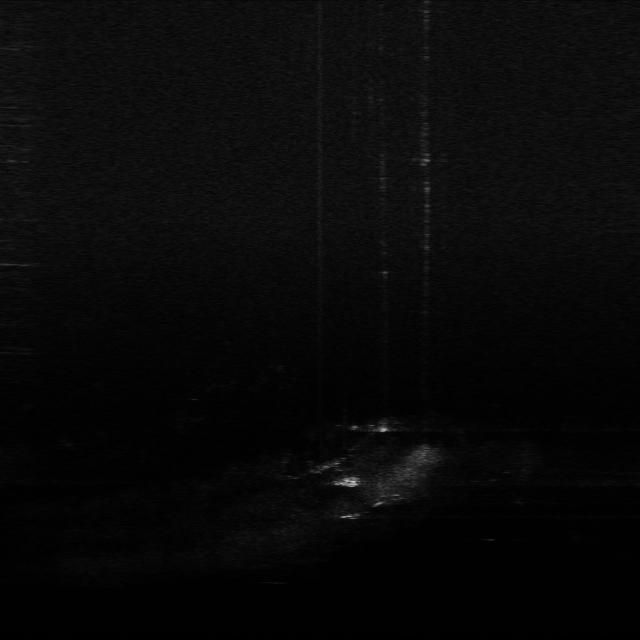rov: (334, 474, 364, 490)
